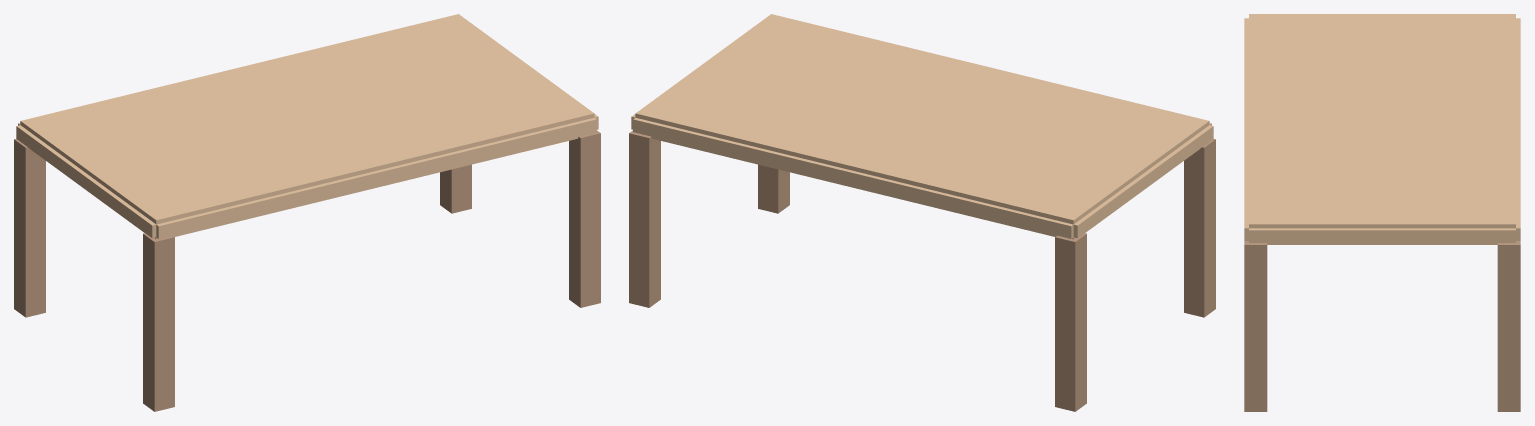
Rendered from coffee_table.glb.
3 views of the same model, side by side, from view 1: azimuth 30°, elevation 25°; view 2: azimuth 150°, elevation 25°; view 3: azimuth 270°, elevation 25° (orthographic).
Visible parts, largest first — view 1: coffee_table; view 2: coffee_table; view 3: coffee_table.
Part boxes in pixels (box(x1,y1,x2,y2)): coffee_table: box(14, 14, 600, 411); coffee_table: box(629, 14, 1215, 411); coffee_table: box(1244, 14, 1520, 411).
Size of the model in its own units: 1.1 by 0.445 by 0.6.
